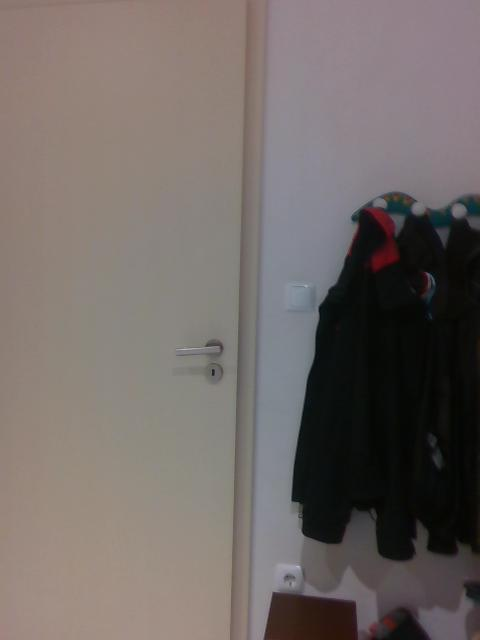door: (1, 1, 247, 640)
